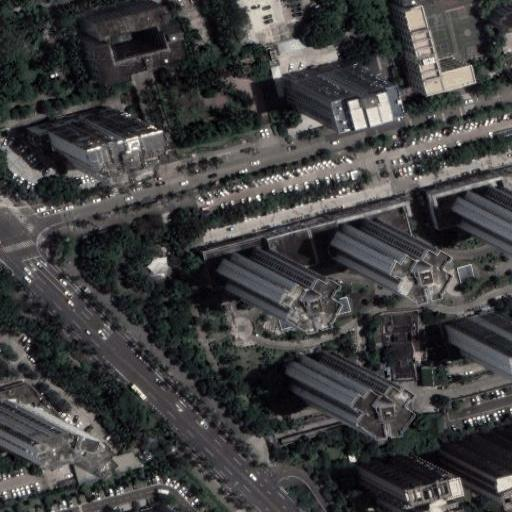building: (205, 203, 414, 288), (387, 7, 459, 98), (81, 22, 173, 81), (43, 103, 126, 153), (327, 218, 392, 276), (214, 248, 279, 305), (278, 349, 343, 406), (288, 56, 359, 106), (450, 182, 512, 239), (358, 447, 417, 504), (442, 430, 512, 474), (0, 402, 57, 453), (81, 0, 160, 35), (442, 310, 500, 355), (73, 451, 142, 486), (389, 315, 415, 381), (277, 31, 327, 53), (27, 122, 49, 149), (421, 366, 448, 388), (270, 65, 286, 97), (490, 7, 512, 28), (58, 477, 80, 492), (413, 340, 421, 364)
